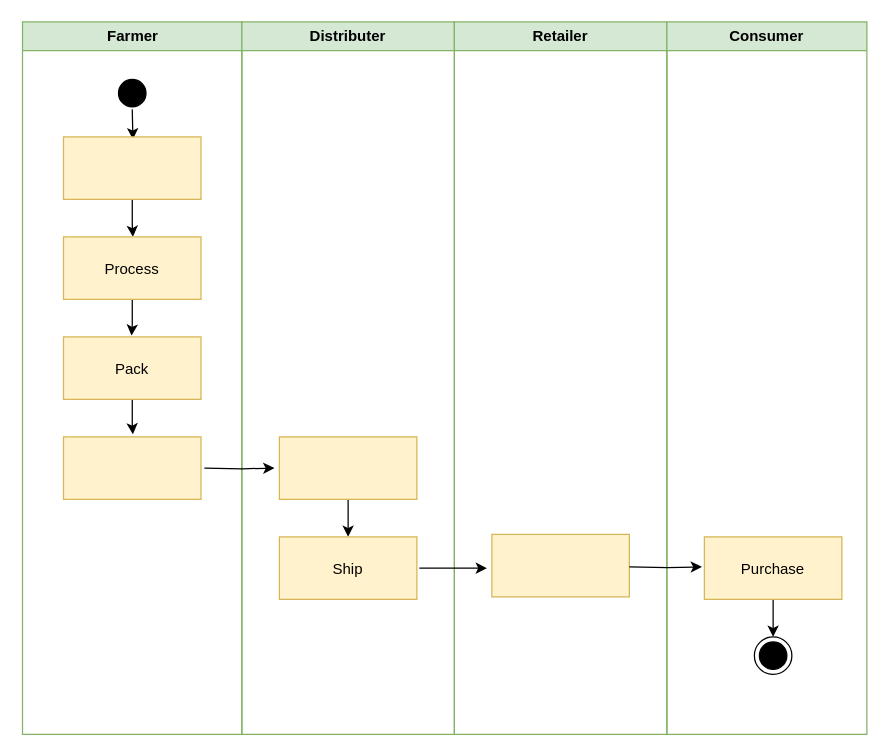
The diagram is 889 pixels wide and 756 high, and some of its shapes have lost their labels. The shapes that lost their labels are listed below. From the top down, each one's box as (x1, y1, x2, y2) in pixels, then its label:
(62, 136, 201, 199): Harvest
(62, 436, 201, 499): Sell
(278, 436, 417, 499): Buy
(491, 533, 629, 597): Receive
